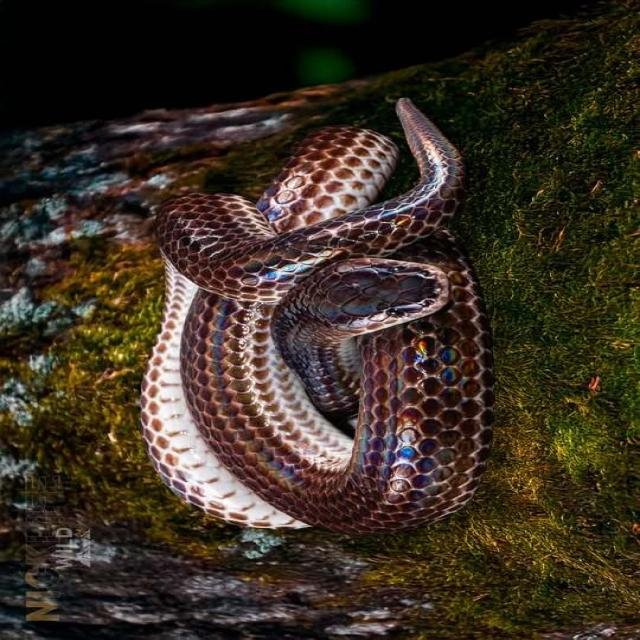Non-Venomous: (232, 232, 492, 377)
